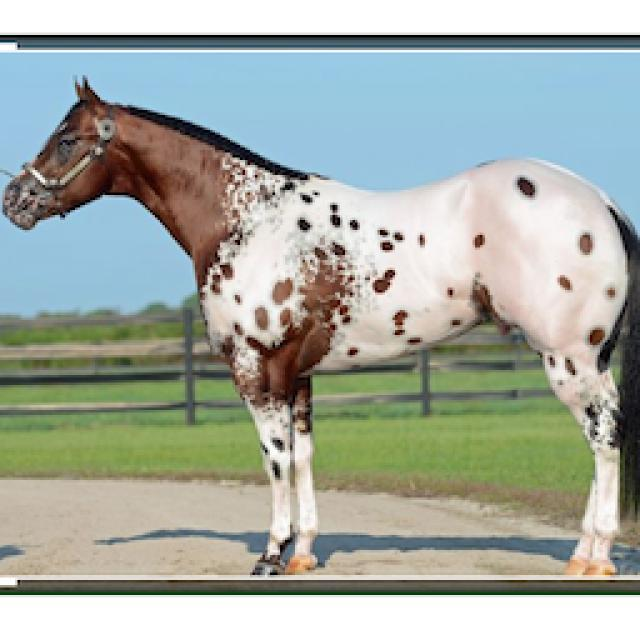Horse: (0, 70, 638, 580)
